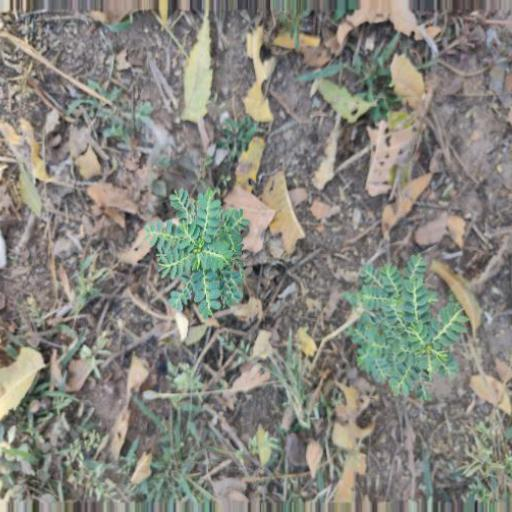weed: (351, 258, 474, 390), (145, 194, 253, 314)
